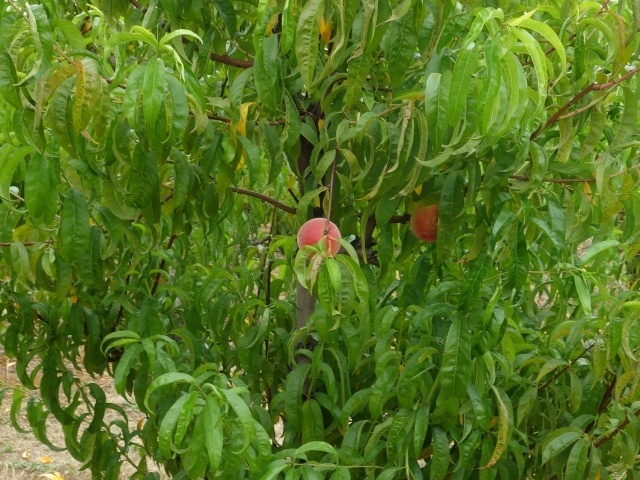peach: (294, 213, 346, 267), (408, 200, 450, 244)
